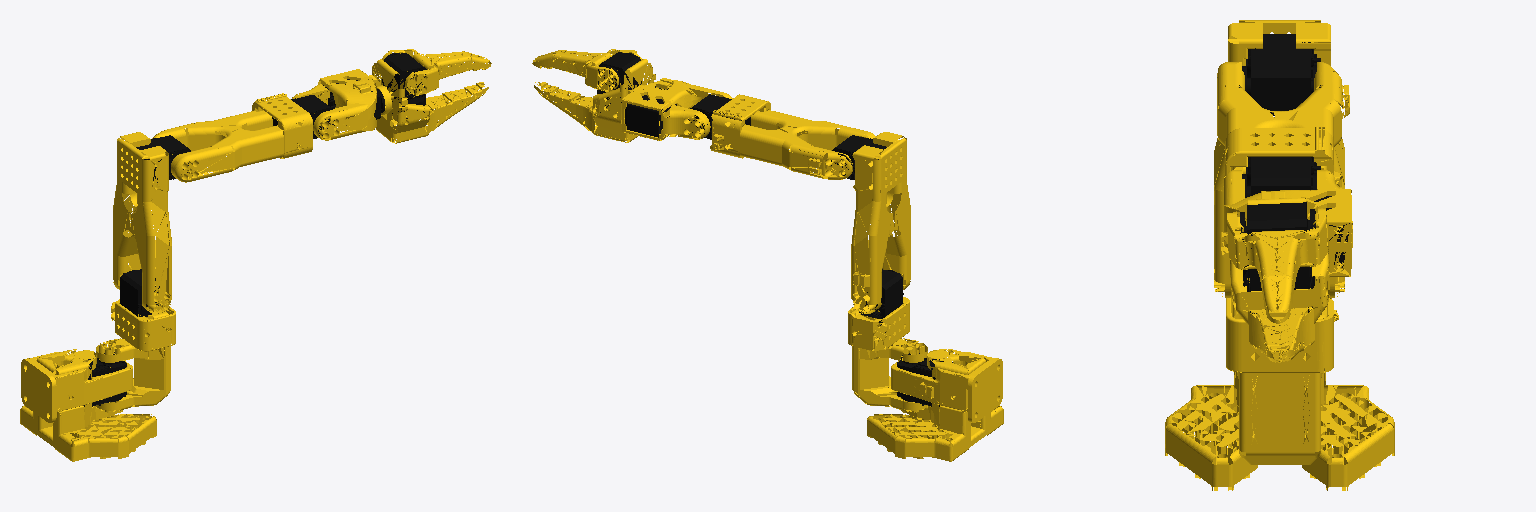
URDF robot description (so101_new_calib):
<?xml version="1.0" encoding="utf-8"?>
<!-- Generated using onshape-to-robot -->
<!-- Onshape https://cad.onshape.com/documents/7715cc284bb430fe6dab4ffd/w/4fd0791b683777b02f8d975a/e/826c553ede3b7592eb9ca800 -->
<robot name="so101_new_calib">

  <!-- Materials -->
  <material name="3d_printed">
    <color rgba="1.0 0.82 0.12 1.0"/>
  </material>
  <material name="sts3215">
    <color rgba="0.1 0.1 0.1 1.0"/>
  </material>

  <!-- Link base -->
  <link name="base_link">
    <inertial>
      <origin xyz="0.0137179 -5.19711e-05 0.0334843" rpy="0 0 0"/>
      <mass value="0.147"/>
      <inertia ixx="0.000114686" ixy="-4.59787e-07" ixz="4.97151e-06" iyy="0.000136117" iyz="9.75275e-08" izz="0.000130364"/>
    </inertial>
    <!-- Part base_motor_holder_so101_v1 -->
    <visual>
      <origin xyz="-0.00636471 -9.94414e-05 -0.0024" rpy="1.5708 -1.67685e-15 1.5708"/>
      <geometry>
        <mesh filename="assets/base_motor_holder_so101_v1.stl"/>
      </geometry>
      <material name="3d_printed"/>
    </visual>
    <!-- Part base_so101_v2 -->
    <visual>
      <origin xyz="-0.00636471 -8.97657e-09 -0.0024" rpy="1.5708 -2.78073e-29 1.5708"/>
      <geometry>
        <mesh filename="assets/base_so101_v2.stl"/>
      </geometry>
      <material name="3d_printed"/>
    </visual>
    <!-- Part sts3215_03a_v1 -->
    <visual>
      <origin xyz="0.0263353 -8.97657e-09 0.0437" rpy="-8.21148e-16 7.84513e-18 1.249e-15"/>
      <geometry>
        <mesh filename="assets/sts3215_03a_v1.stl"/>
      </geometry>
      <material name="sts3215"/>
    </visual>
    <!-- Part waveshare_mounting_plate_so101_v2 -->
    <visual>
      <origin xyz="-0.0309827 -0.000199441 0.0474" rpy="1.5708 -1.35493e-14 1.5708"/>
      <geometry>
        <mesh filename="assets/waveshare_mounting_plate_so101_v2.stl"/>
      </geometry>
      <material name="3d_printed"/>
    </visual>
  </link>

  <!-- Link shoulder -->
  <link name="shoulder_link">
    <inertial>
      <origin xyz="-0.0307604 -1.66727e-05 -0.0252713" rpy="0 0 0"/>
      <mass value="0.100006"/>
      <inertia ixx="8.3759e-05" ixy="7.55525e-08" ixz="-1.16342e-06" iyy="8.10403e-05" iyz="1.54663e-07" izz="2.39783e-05"/>
    </inertial>
    <!-- Part sts3215_03a_v1_2 -->
    <visual>
      <origin xyz="-0.0303992 0.000422241 -0.0417" rpy="1.5708 1.5708 0"/>
      <geometry>
        <mesh filename="assets/sts3215_03a_v1.stl"/>
      </geometry>
      <material name="sts3215"/>
    </visual>
    <!-- Part motor_holder_so101_base_v1 -->
    <visual>
      <origin xyz="-0.0675992 -0.000177759 0.0158499" rpy="1.5708 -1.5708 0"/>
      <geometry>
        <mesh filename="assets/motor_holder_so101_base_v1.stl"/>
      </geometry>
      <material name="3d_printed"/>
    </visual>
    <!-- Part rotation_pitch_so101_v1 -->
    <visual>
      <origin xyz="0.0122008 2.22413e-05 0.0464" rpy="-1.5708 2.35221e-33 0"/>
      <geometry>
        <mesh filename="assets/rotation_pitch_so101_v1.stl"/>
      </geometry>
      <material name="3d_printed"/>
    </visual>
  </link>

  <!-- Link upper_arm -->
  <link name="upper_arm_link">
    <inertial>
      <origin xyz="-0.0898471 -0.00838224 0.0184089" rpy="0 0 0"/>
      <mass value="0.103"/>
      <inertia ixx="4.08002e-05" ixy="-1.97819e-05" ixz="-4.03016e-08" iyy="0.000147318" iyz="8.97326e-09" izz="0.000142487"/>
    </inertial>
    <!-- Part sts3215_03a_v1_3 -->
    <visual>
      <origin xyz="-0.11257 -0.0155 0.0187" rpy="-3.14159 -5.27356e-16 -1.5708"/>
      <geometry>
        <mesh filename="assets/sts3215_03a_v1.stl"/>
      </geometry>
      <material name="sts3215"/>
    </visual>
    <!-- Part upper_arm_so101_v1 -->
    <visual>
      <origin xyz="-0.065085 0.012 0.0182" rpy="3.14159 -0 -1.30911e-30"/>
      <geometry>
        <mesh filename="assets/upper_arm_so101_v1.stl"/>
      </geometry>
      <material name="3d_printed"/>
    </visual>
  </link>

  <!-- Link lower_arm -->
  <link name="lower_arm_link">
    <inertial>
      <origin xyz="-0.0980701 0.00324376 0.0182831" rpy="0 0 0"/>
      <mass value="0.104"/>
      <inertia ixx="2.87438e-05" ixy="7.41152e-06" ixz="1.26409e-06" iyy="0.000159844" iyz="-4.90188e-08" izz="0.00014529"/>
    </inertial>
    <!-- Part under_arm_so101_v1 -->
    <visual>
      <origin xyz="-0.0648499 -0.032 0.0182" rpy="3.14159 -0 6.67202e-31"/>
      <geometry>
        <mesh filename="assets/under_arm_so101_v1.stl"/>
      </geometry>
      <material name="3d_printed"/>
    </visual>
    <!-- Part motor_holder_so101_wrist_v1 -->
    <visual>
      <origin xyz="-0.0648499 -0.032 0.018" rpy="-3.14159 -2.55351e-15 -1.83387e-30"/>
      <geometry>
        <mesh filename="assets/motor_holder_so101_wrist_v1.stl"/>
      </geometry>
      <material name="3d_printed"/>
    </visual>
    <!-- Part sts3215_03a_v1_4 -->
    <visual>
      <origin xyz="-0.1224 0.0052 0.0187" rpy="-3.14159 -7.88861e-31 -3.14159"/>
      <geometry>
        <mesh filename="assets/sts3215_03a_v1.stl"/>
      </geometry>
      <material name="sts3215"/>
    </visual>
  </link>

  <!-- Link wrist -->
  <link name="wrist_link">
    <inertial>
      <origin xyz="-0.000103312 -0.0386143 0.0281156" rpy="0 0 0"/>
      <mass value="0.079"/>
      <inertia ixx="3.68263e-05" ixy="1.7893e-08" ixz="-5.28128e-08" iyy="2.5391e-05" iyz="3.6412e-06" izz="2.1e-05"/>
    </inertial>
    <!-- Part sts3215_03a_no_horn_v1 -->
    <visual>
      <origin xyz="8.32667e-17 -0.0424 0.0306" rpy="1.5708 1.5708 0"/>
      <geometry>
        <mesh filename="assets/sts3215_03a_no_horn_v1.stl"/>
      </geometry>
      <material name="sts3215"/>
    </visual>
    <!-- Part wrist_roll_pitch_so101_v2 -->
    <visual>
      <origin xyz="0 -0.028 0.0181" rpy="-1.5708 -1.5708 0"/>
      <geometry>
        <mesh filename="assets/wrist_roll_pitch_so101_v2.stl"/>
      </geometry>
      <material name="3d_printed"/>
    </visual>
  </link>

  <!-- Link gripper -->
  <link name="gripper_link">
    <inertial>
      <origin xyz="0.000213627 0.000245138 -0.025187" rpy="0 0 0"/>
      <mass value="0.087"/>
      <inertia ixx="2.75087e-05" ixy="-3.35241e-07" ixz="-5.7352e-06" iyy="4.33657e-05" iyz="-5.17847e-08" izz="3.45059e-05"/>
    </inertial>
    <!-- Part sts3215_03a_v1_5 -->
    <visual>
      <origin xyz="0.0077 0.0001 -0.0234" rpy="-1.5708 -5.19179e-17 -1.66533e-16"/>
      <geometry>
        <mesh filename="assets/sts3215_03a_v1.stl"/>
      </geometry>
      <material name="sts3215"/>
    </visual>
    <!-- Part wrist_roll_follower_so101_v1 -->
    <visual>
      <origin xyz="8.32667e-17 -0.000218214 0.000949706" rpy="-3.14159 -5.55112e-17 0"/>
      <geometry>
        <mesh filename="assets/wrist_roll_follower_so101_v1.stl"/>
      </geometry>
      <material name="3d_printed"/>
    </visual>
  </link>

  <!-- Gripper frame (dummy link + fixed joint) -->
  <link name="gripper_frame_link">
    <origin xyz="0 0 0" rpy="0 -0 0"/>
    <inertial>
      <origin xyz="0 0 0" rpy="0 0 0"/>
      <mass value="1e-9"/>
      <inertia ixx="0" ixy="0" ixz="0" iyy="0" iyz="0" izz="0"/>
    </inertial>
  </link>

  <joint name="gripper_frame_joint" type="fixed">
    <origin xyz="-0.0079 -0.000218121 -0.0981274" rpy="0 3.14159 0"/>
    <parent link="gripper_link"/>
    <child link="gripper_frame_link"/>
    <axis xyz="0 0 0"/>
  </joint>

  <!-- Link moving_jaw_so101_v1 -->
  <link name="moving_jaw_so101_v1_link">
    <inertial>
      <origin xyz="-0.00157495 -0.0300244 0.0192755" rpy="0 0 0"/>
      <mass value="0.012"/>
      <inertia ixx="6.61427e-06" ixy="-3.19807e-07" ixz="-5.90717e-09" iyy="1.89032e-06" iyz="-1.09945e-07" izz="5.28738e-06"/>
    </inertial>
    <!-- Part moving_jaw_so101_v1 -->
    <visual>
      <origin xyz="-5.55112e-17 -5.55112e-17 0.0189" rpy="9.53145e-17 6.93889e-18 1.24077e-24"/>
      <geometry>
        <mesh filename="assets/moving_jaw_so101_v1.stl"/>
      </geometry>
      <material name="3d_printed"/>
    </visual>
  </link>

  <!-- Joint from gripper to moving_jaw_so101_v1 -->
  <joint name="gripper" type="revolute">
    <origin xyz="0.0202 0.0188 -0.0234" rpy="1.5708 -5.24284e-08 -1.41553e-15"/>
    <parent link="gripper_link"/>
    <child link="moving_jaw_so101_v1_link"/>
    <axis xyz="0 0 1"/>
    <limit effort="10" velocity="10" lower="-0.174533" upper="1.74533"/>
  </joint>

  <transmission name="gripper_trans">
    <type>transmission_interface/SimpleTransmission</type>
    <joint name="gripper">
      <hardwareInterface>hardware_interface/PositionJointInterface</hardwareInterface>
    </joint>
    <actuator name="motor6">
      <hardwareInterface>hardware_interface/PositionJointInterface</hardwareInterface>
      <mechanicalReduction>1</mechanicalReduction>
    </actuator>
  </transmission>

  <!-- Joint from wrist to gripper -->
  <joint name="wrist_roll" type="revolute">
    <origin xyz="5.55112e-17 -0.0611 0.0181" rpy="1.5708 0.0486795 3.14159"/>
    <parent link="wrist_link"/>
    <child link="gripper_link"/>
    <axis xyz="0 0 1"/>
    <limit effort="10" velocity="10" lower="-2.74385" upper="2.84121"/>
  </joint>

  <transmission name="wrist_roll_trans">
    <type>transmission_interface/SimpleTransmission</type>
    <joint name="wrist_roll">
      <hardwareInterface>hardware_interface/PositionJointInterface</hardwareInterface>
    </joint>
    <actuator name="motor5">
      <hardwareInterface>hardware_interface/PositionJointInterface</hardwareInterface>
      <mechanicalReduction>1</mechanicalReduction>
    </actuator>
  </transmission>

  <!-- Joint from lower_arm to wrist -->
  <joint name="wrist_flex" type="revolute">
    <origin xyz="-0.1349 0.0052 3.62355e-17" rpy="4.02456e-15 8.67362e-16 -1.5708"/>
    <parent link="lower_arm_link"/>
    <child link="wrist_link"/>
    <axis xyz="0 0 1"/>
    <limit effort="10" velocity="10" lower="-1.65806" upper="1.65806"/>
  </joint>

  <transmission name="wrist_flex_trans">
    <type>transmission_interface/SimpleTransmission</type>
    <joint name="wrist_flex">
      <hardwareInterface>hardware_interface/PositionJointInterface</hardwareInterface>
    </joint>
    <actuator name="motor4">
      <hardwareInterface>hardware_interface/PositionJointInterface</hardwareInterface>
      <mechanicalReduction>1</mechanicalReduction>
    </actuator>
  </transmission>

  <!-- Joint from upper_arm to lower_arm -->
  <!-- Note: 5-degree calibration offset applied to joint limits -->
  <joint name="elbow_flex" type="revolute">
    <origin xyz="-0.11257 -0.028 1.73763e-16" rpy="-3.63608e-16 8.74301e-16 1.5708"/>
    <parent link="upper_arm_link"/>
    <child link="lower_arm_link"/>
    <axis xyz="0 0 1"/>
    <limit effort="10" velocity="10" lower="-1.69" upper="1.69"/>
  </joint>

  <transmission name="elbow_flex_trans">
    <type>transmission_interface/SimpleTransmission</type>
    <joint name="elbow_flex">
      <hardwareInterface>hardware_interface/PositionJointInterface</hardwareInterface>
    </joint>
    <actuator name="motor3">
      <hardwareInterface>hardware_interface/PositionJointInterface</hardwareInterface>
      <mechanicalReduction>1</mechanicalReduction>
    </actuator>
  </transmission>

  <!-- Joint from shoulder to upper_arm -->
  <joint name="shoulder_lift" type="revolute">
    <origin xyz="-0.0303992 -0.0182778 -0.0542" rpy="-1.5708 -1.5708 0"/>
    <parent link="shoulder_link"/>
    <child link="upper_arm_link"/>
    <axis xyz="0 0 1"/>
    <limit effort="10" velocity="10" lower="-1.74533" upper="1.74533"/>
  </joint>

  <transmission name="shoulder_lift_trans">
    <type>transmission_interface/SimpleTransmission</type>
    <joint name="shoulder_lift">
      <hardwareInterface>hardware_interface/PositionJointInterface</hardwareInterface>
    </joint>
    <actuator name="motor2">
      <hardwareInterface>hardware_interface/PositionJointInterface</hardwareInterface>
      <mechanicalReduction>1</mechanicalReduction>
    </actuator>
  </transmission>

  <!-- Joint from base to shoulder -->
  <joint name="shoulder_pan" type="revolute">
    <origin xyz="0.0388353 -8.97657e-09 0.0624" rpy="3.14159 4.18253e-17 -3.14159"/>
    <parent link="base_link"/>
    <child link="shoulder_link"/>
    <axis xyz="0 0 1"/>
    <limit effort="10" velocity="10" lower="-1.91986" upper="1.91986"/>
  </joint>

  <transmission name="shoulder_pan_trans">
    <type>transmission_interface/SimpleTransmission</type>
    <joint name="shoulder_pan">
      <hardwareInterface>hardware_interface/PositionJointInterface</hardwareInterface>
    </joint>
    <actuator name="motor1">
      <hardwareInterface>hardware_interface/PositionJointInterface</hardwareInterface>
      <mechanicalReduction>1</mechanicalReduction>
    </actuator>
  </transmission> 

</robot>

--- Render facts (derived) ---
The picture shows the robot from 3 angles, left to right: view 1: azimuth 30°, elevation 25°; view 2: azimuth 150°, elevation 25°; view 3: azimuth 270°, elevation 25°; orthographic projection.
Robot: so101_new_calib — 8 links, 7 joints (6 revolute, 1 fixed); root link base_link; default pose: all joints at 0.
Links seen in each view (by area): view 1: base_link, upper_arm_link, lower_arm_link, shoulder_link, gripper_link, wrist_link, moving_jaw_so101_v1_link; view 2: base_link, upper_arm_link, lower_arm_link, shoulder_link, wrist_link, gripper_link, moving_jaw_so101_v1_link; view 3: base_link, lower_arm_link, shoulder_link, upper_arm_link, gripper_link, moving_jaw_so101_v1_link, wrist_link.
Link boxes in pixels (x1,y1,x2,y2): base_link: (20,349,156,461); upper_arm_link: (113,132,190,313); lower_arm_link: (152,93,334,182); shoulder_link: (96,269,175,412); gripper_link: (372,53,488,143); wrist_link: (292,69,384,140); moving_jaw_so101_v1_link: (382,49,491,95); base_link: (867,349,1003,461); upper_arm_link: (831,132,910,313); lower_arm_link: (688,94,875,179); shoulder_link: (848,269,927,412); wrist_link: (622,78,732,140); gripper_link: (534,52,655,142); moving_jaw_so101_v1_link: (532,49,641,91); base_link: (1165,298,1394,490); lower_arm_link: (1217,62,1349,197); shoulder_link: (1226,283,1338,464); upper_arm_link: (1214,20,1352,297); gripper_link: (1221,197,1329,362); moving_jaw_so101_v1_link: (1227,208,1327,324); wrist_link: (1224,170,1351,276).
Bounding box of the posed robot: 0.4296 × 0.1109 × 0.2681 m (x, y, z).
Meshes: 13 distinct files referenced, 17 mesh visuals loaded (13 binary STL).
